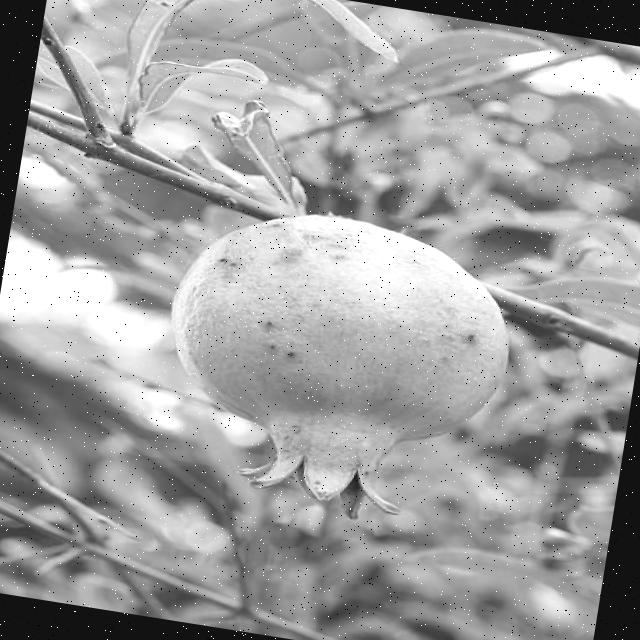Unripe: (143, 192, 531, 537)
